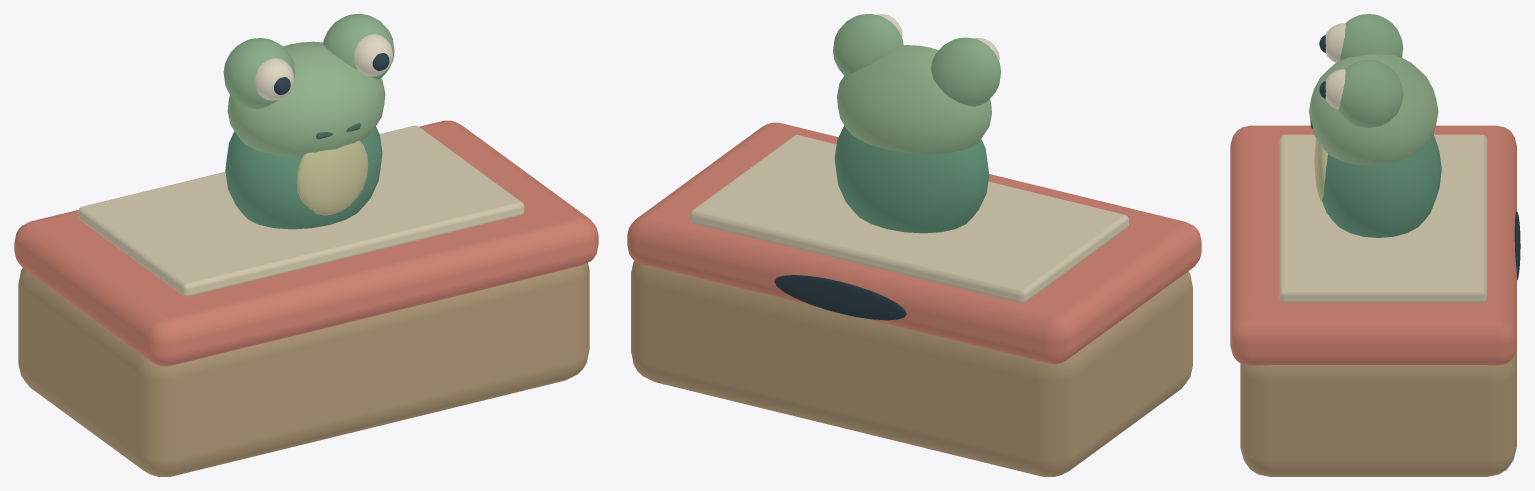
The model's file is jump_dark.glb.
3 renders of one model, left to right at view 1: azimuth 30°, elevation 25°; view 2: azimuth 150°, elevation 25°; view 3: azimuth 270°, elevation 25°, orthographic. The views are drawn at different scales.
Parts seen in each view (by area): view 1: part (×10); view 2: part (×8); view 3: part (×11).
Boxes of the visible parts, x1=… form: part (×10): x1=14, y1=14, x2=598, y2=476; part (×8): x1=627, y1=14, x2=1201, y2=476; part (×11): x1=1230, y1=14, x2=1520, y2=476.
Size of the model in its own units: 100 by 76.5 by 58.75.
